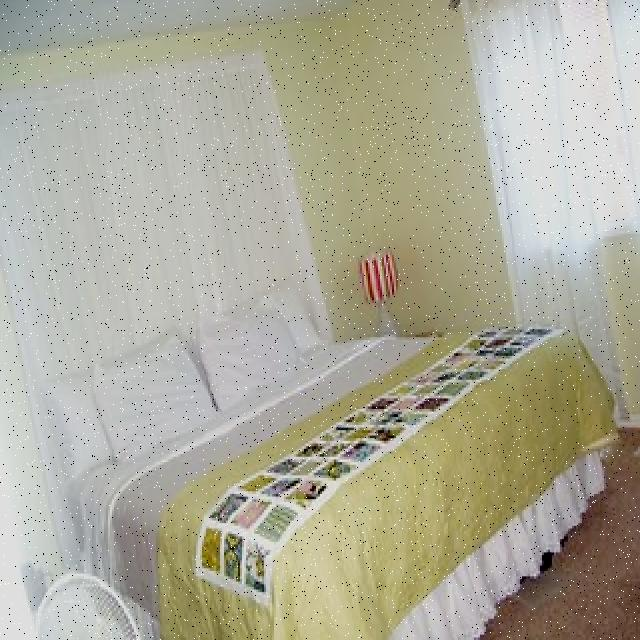bed: (45, 296, 608, 636)
